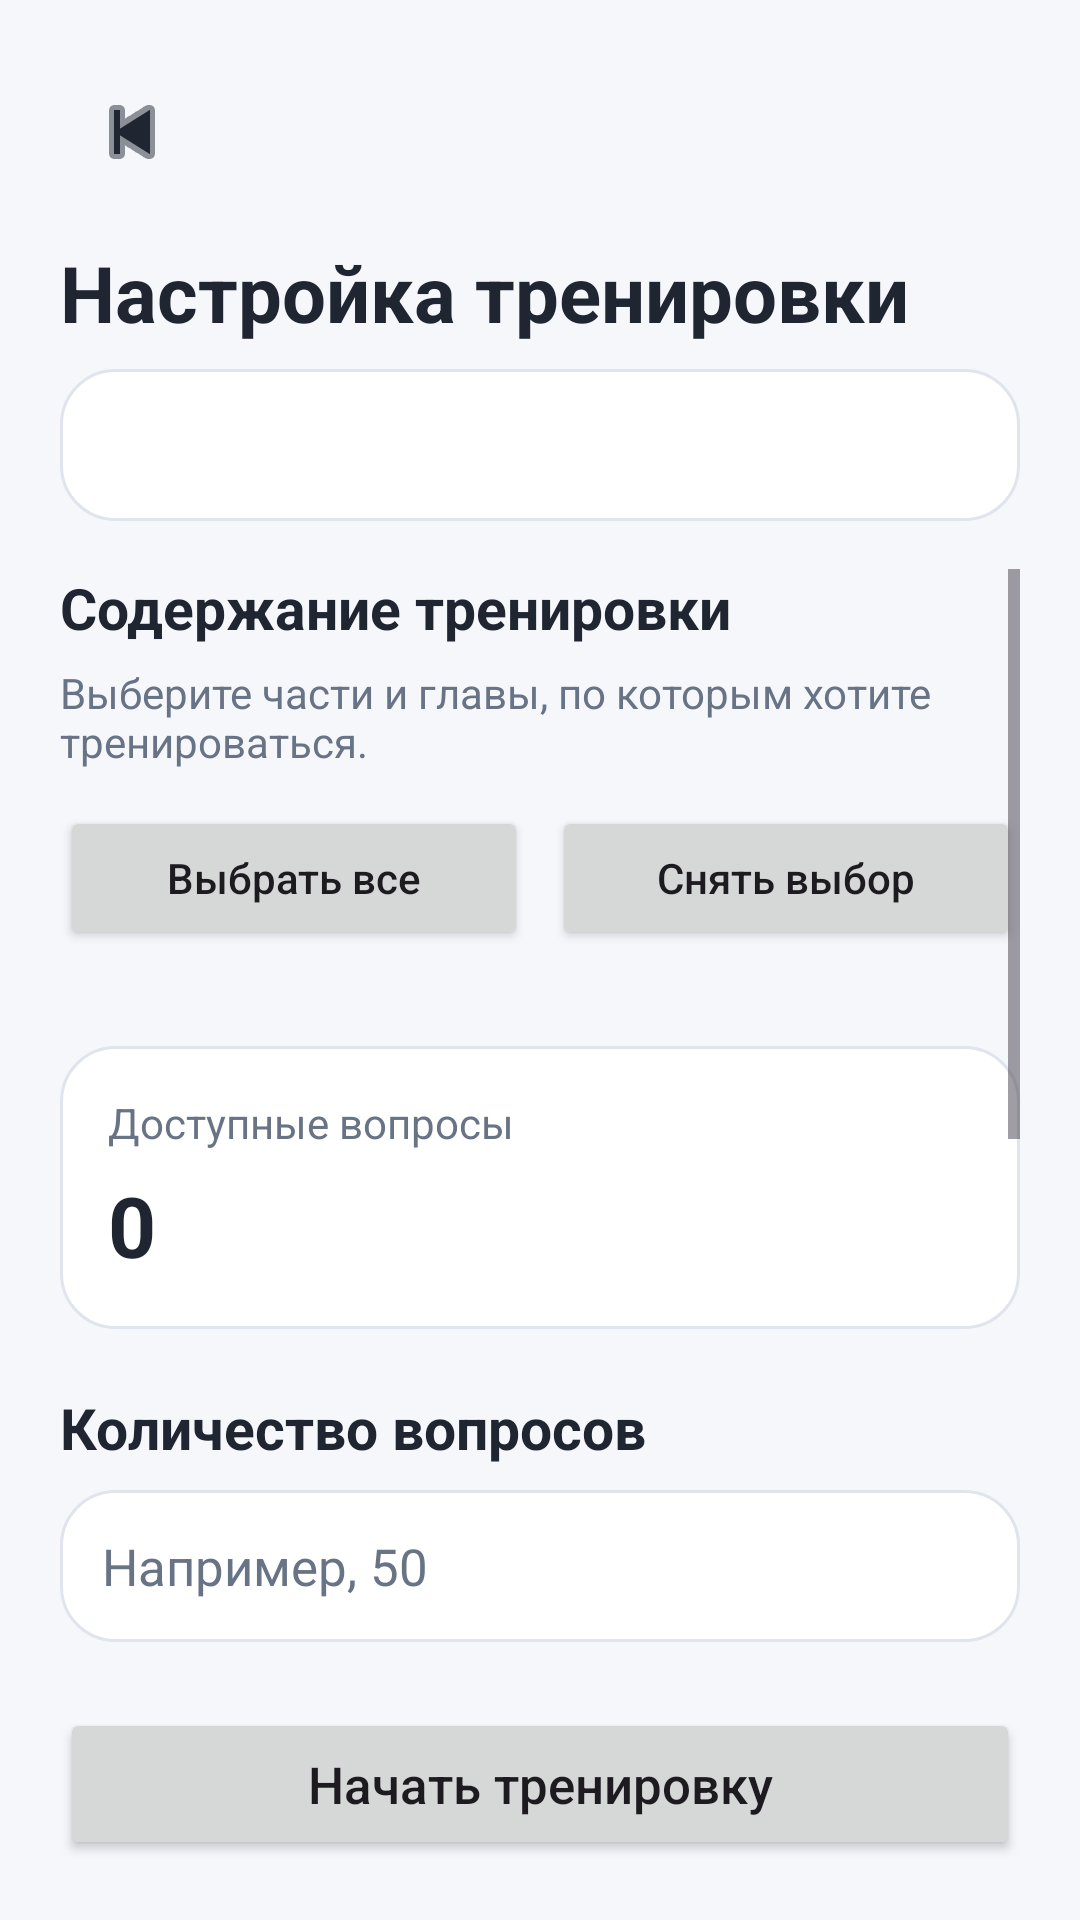

Where icons sit on this 1080x1920 app screen, as (x1=x1, y1=y1, x2=x2, y2=y2):
Назад: (x1=109, y1=105, x2=155, y2=159)
